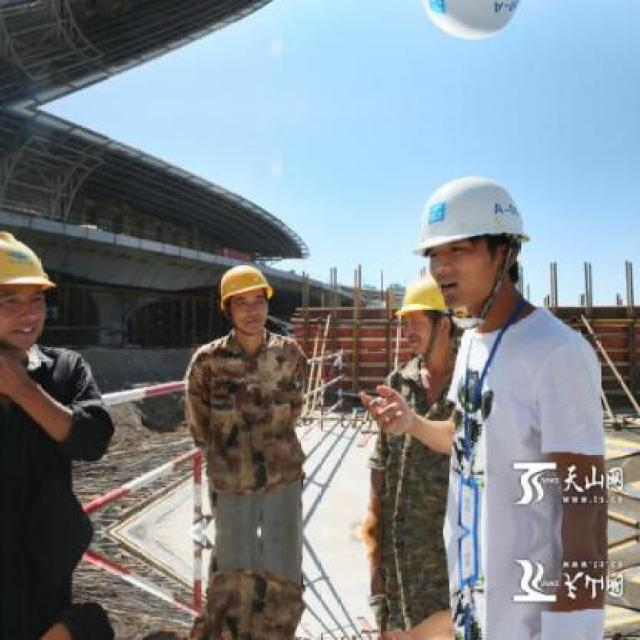helmet: (416, 171, 526, 312), (1, 223, 57, 349), (397, 272, 465, 360), (416, 0, 526, 45), (217, 260, 272, 334)
